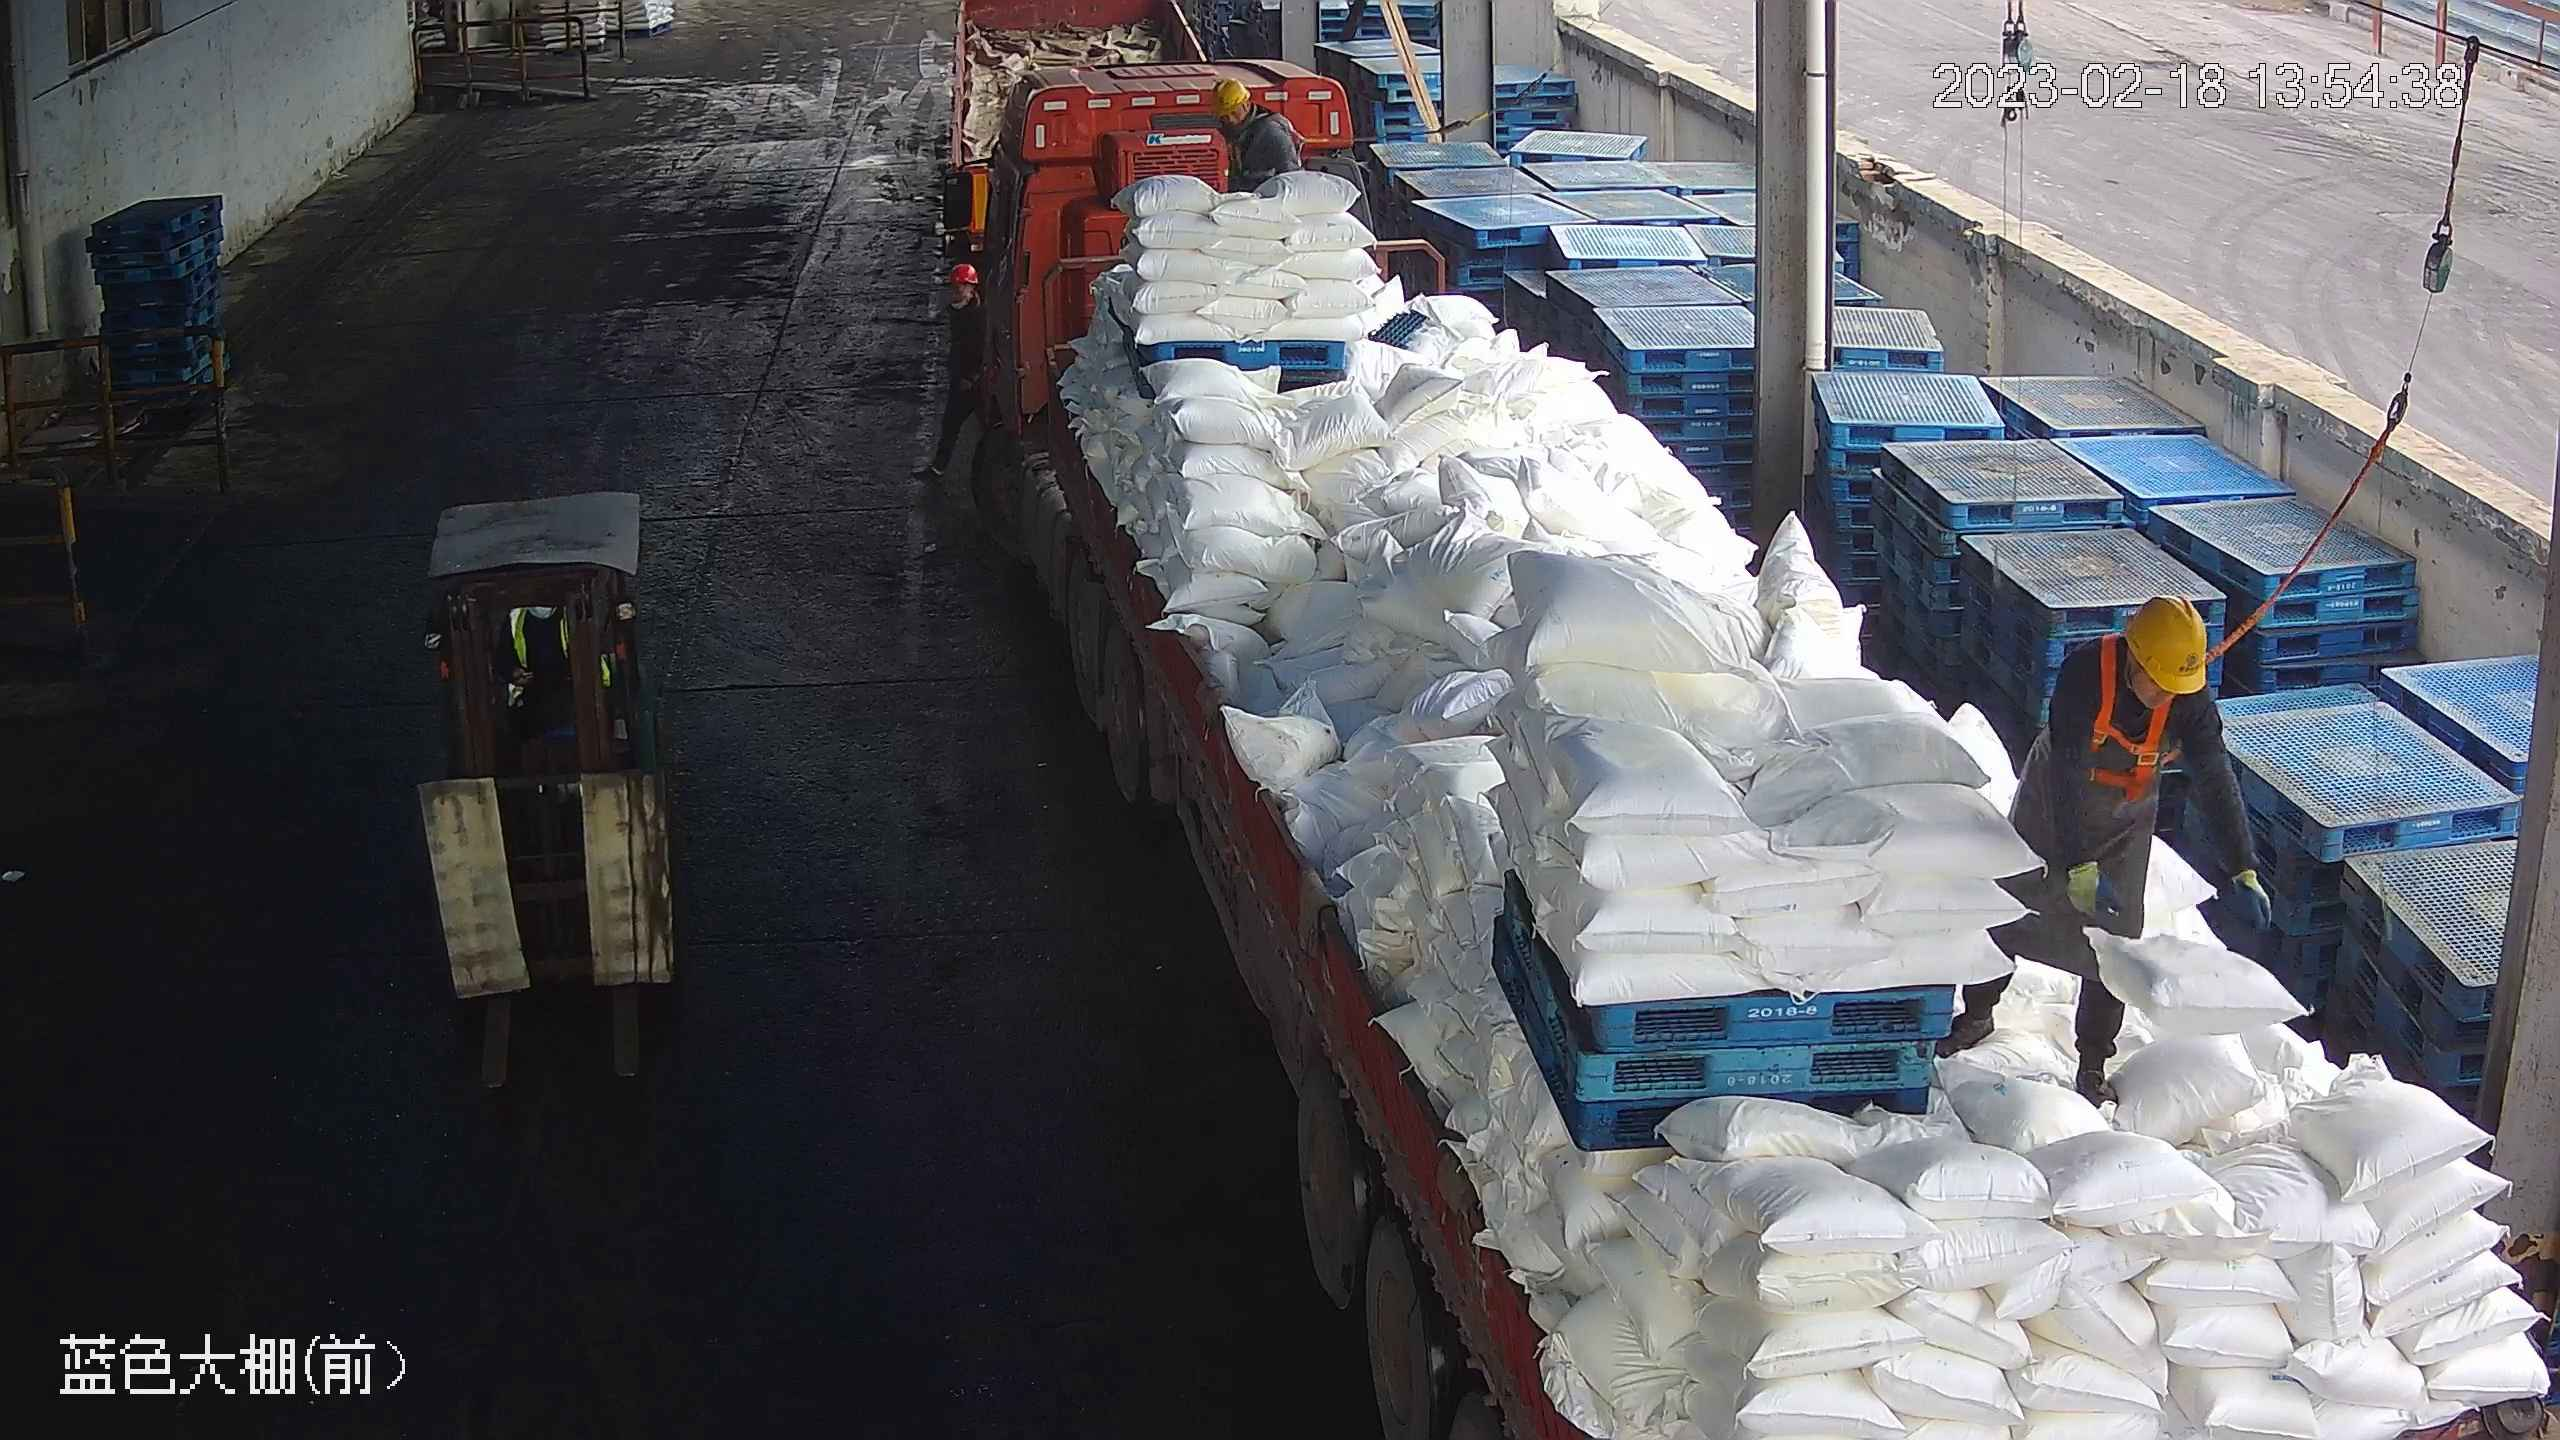belt: (2081, 628, 2198, 789), (1236, 106, 1298, 165)
head: (2031, 591, 2221, 729), (1211, 75, 1290, 143), (940, 262, 988, 341)
helmet: (2121, 590, 2211, 695), (1209, 74, 1251, 112), (946, 260, 980, 285)
people: (1933, 590, 2270, 1104), (923, 262, 995, 491)
truck: (976, 58, 2560, 1440)
